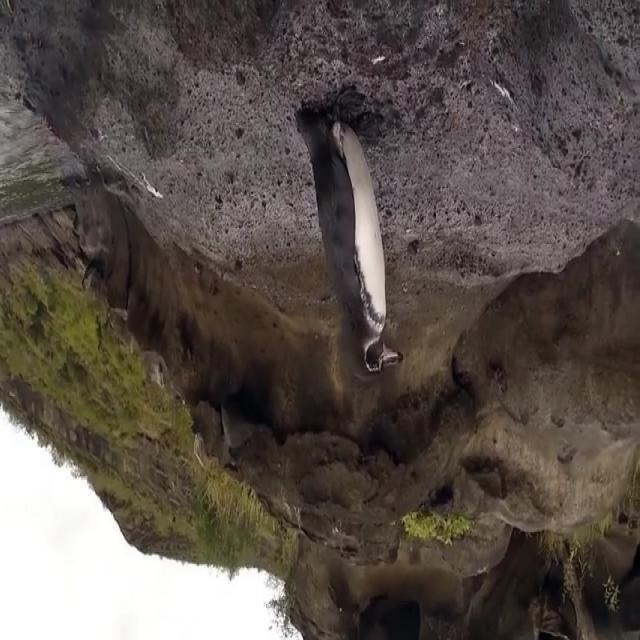penguin: (294, 85, 404, 381)
